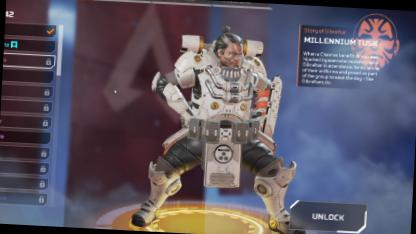Target: (142, 21, 297, 192)
